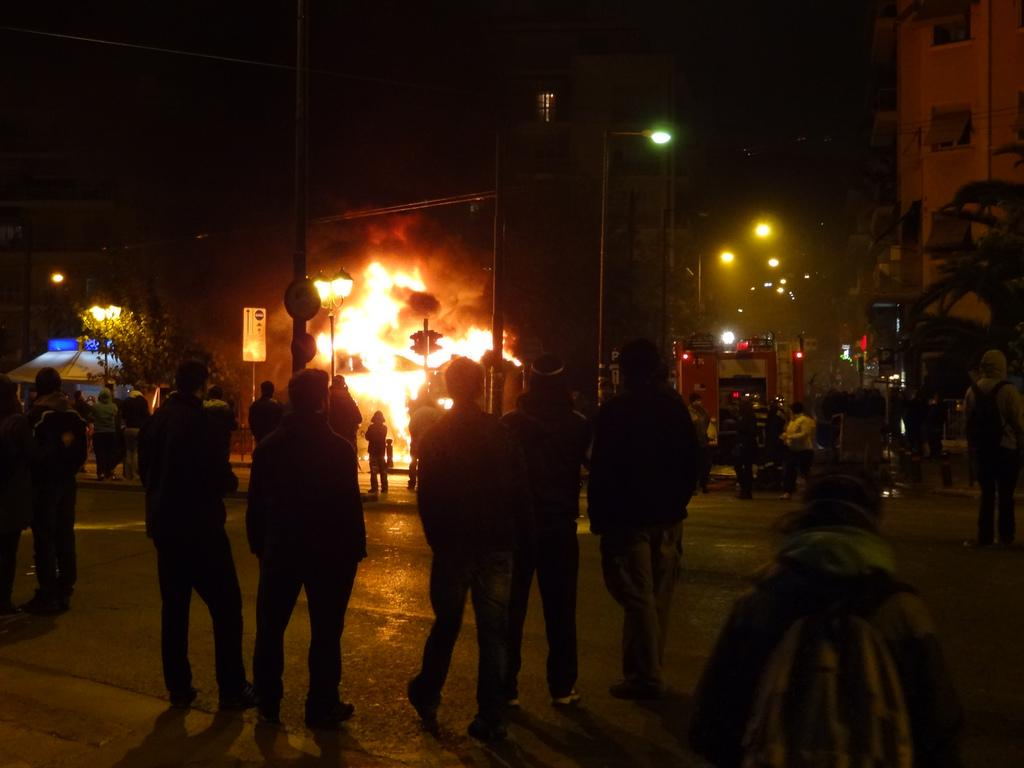fire: (320, 274, 442, 386)
